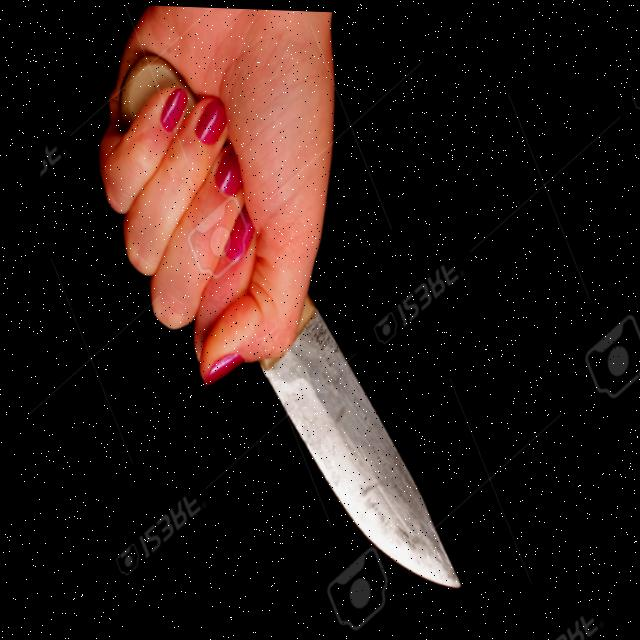knife: (209, 288, 514, 620)
